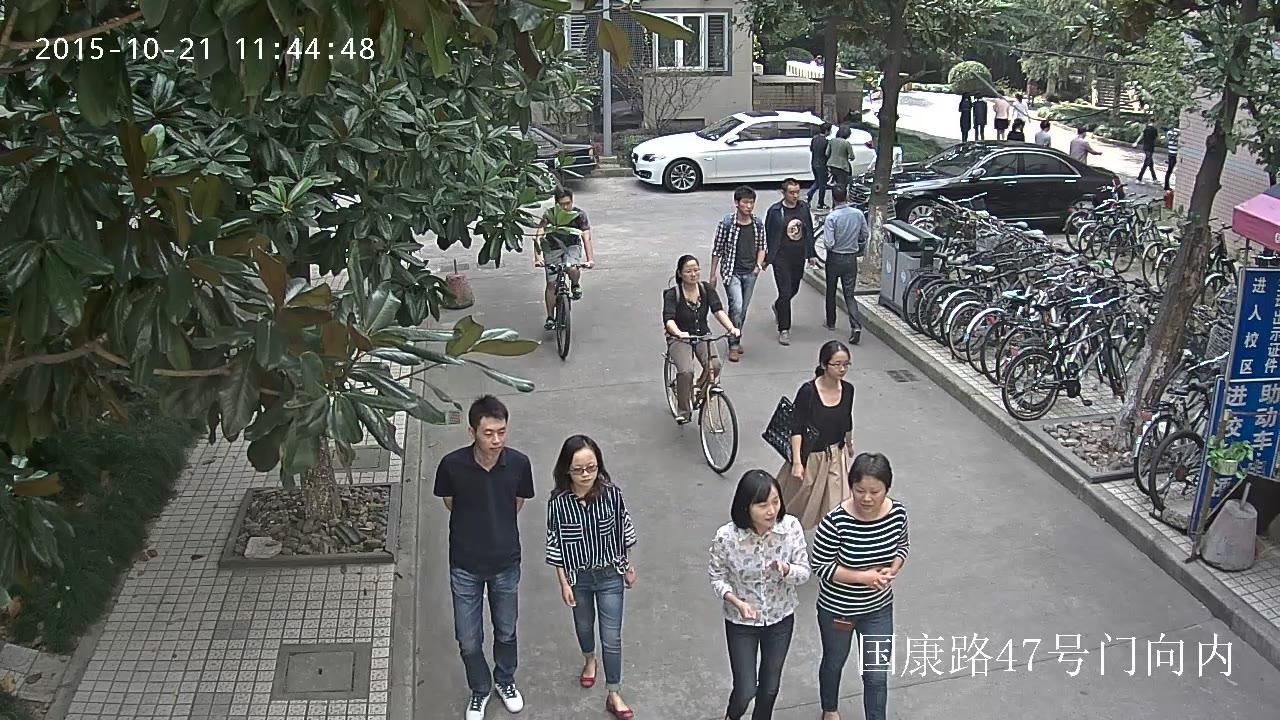person: (432, 393, 535, 720), (809, 452, 910, 720), (544, 434, 636, 720), (709, 469, 811, 720), (655, 254, 741, 473), (761, 339, 855, 533), (663, 254, 741, 421), (533, 187, 594, 358), (708, 185, 766, 361), (760, 178, 818, 346), (533, 188, 594, 329), (821, 183, 868, 344), (806, 122, 832, 209), (824, 124, 855, 191), (1131, 118, 1162, 185), (1069, 126, 1102, 164), (1163, 124, 1179, 189), (993, 92, 1009, 139), (958, 91, 972, 143), (972, 92, 987, 140), (1006, 117, 1024, 141), (1012, 96, 1028, 122), (1035, 119, 1051, 145)
